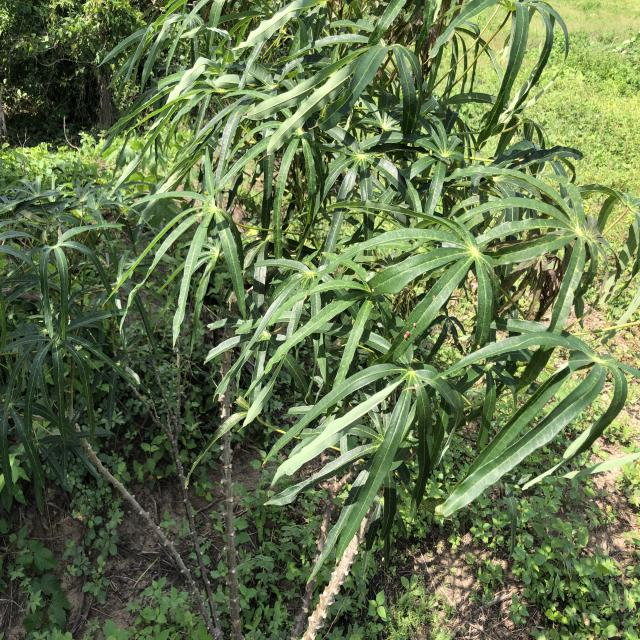Mosca: (390, 320, 412, 344), (72, 340, 89, 367), (108, 357, 133, 374), (401, 314, 425, 330), (79, 401, 96, 422), (464, 87, 478, 105), (422, 145, 435, 162)
